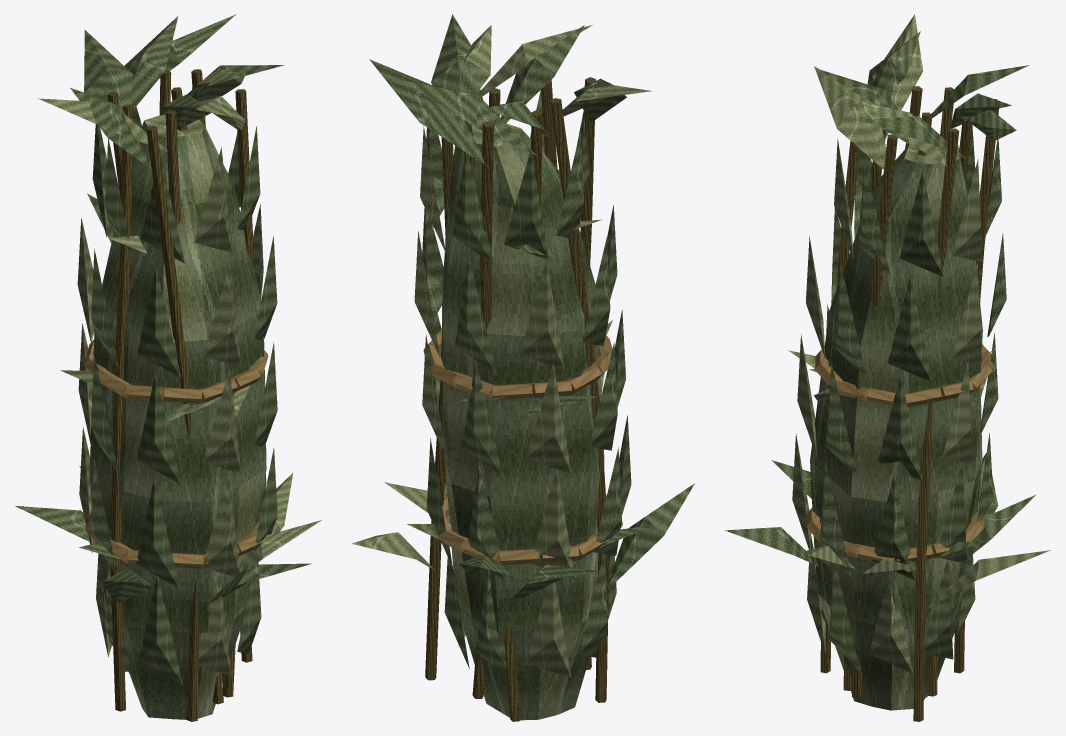
Rendered from blender_incense_1.glb.
3 renders of one model, left to right at view 1: azimuth 30°, elevation 25°; view 2: azimuth 150°, elevation 25°; view 3: azimuth 270°, elevation 25°, orthographic. The views are drawn at different scales.
Visible parts, largest first — view 1: blender_incense_1; view 2: blender_incense_1; view 3: blender_incense_1.
Part boxes in pixels (left/top/right/bottom): blender_incense_1: left=15, top=14, right=321, bottom=721; blender_incense_1: left=352, top=14, right=694, bottom=721; blender_incense_1: left=724, top=14, right=1051, bottom=721.
Bounding box in the file's own units: 0.0784 × 0.183 × 0.0879.
4 materials, 4 textured.
